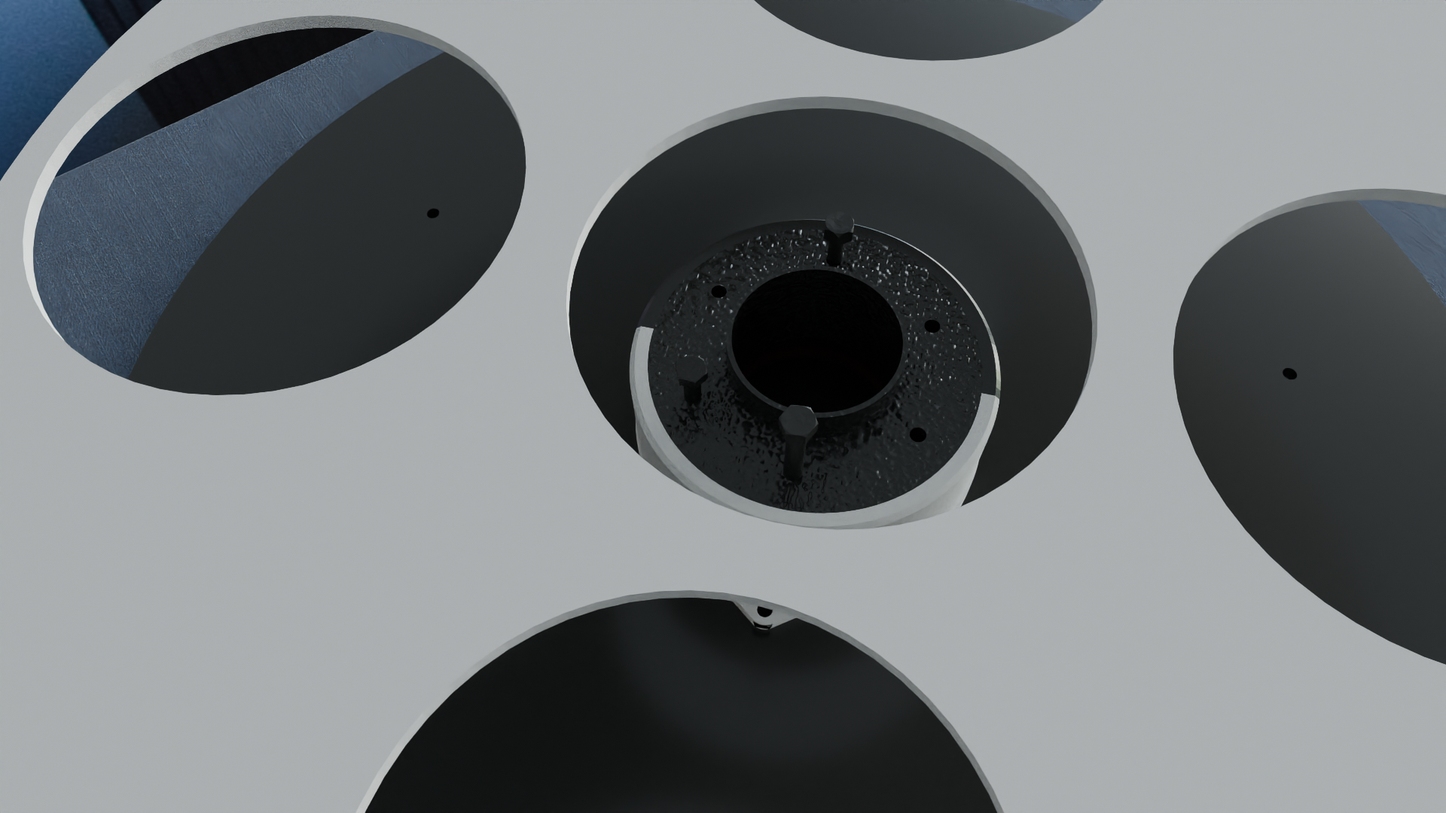bolt: (779, 405, 819, 437), (676, 355, 708, 382), (825, 212, 854, 238)
